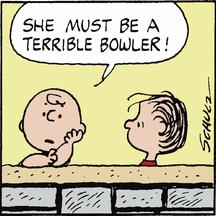charlie: (17, 86, 87, 168)
